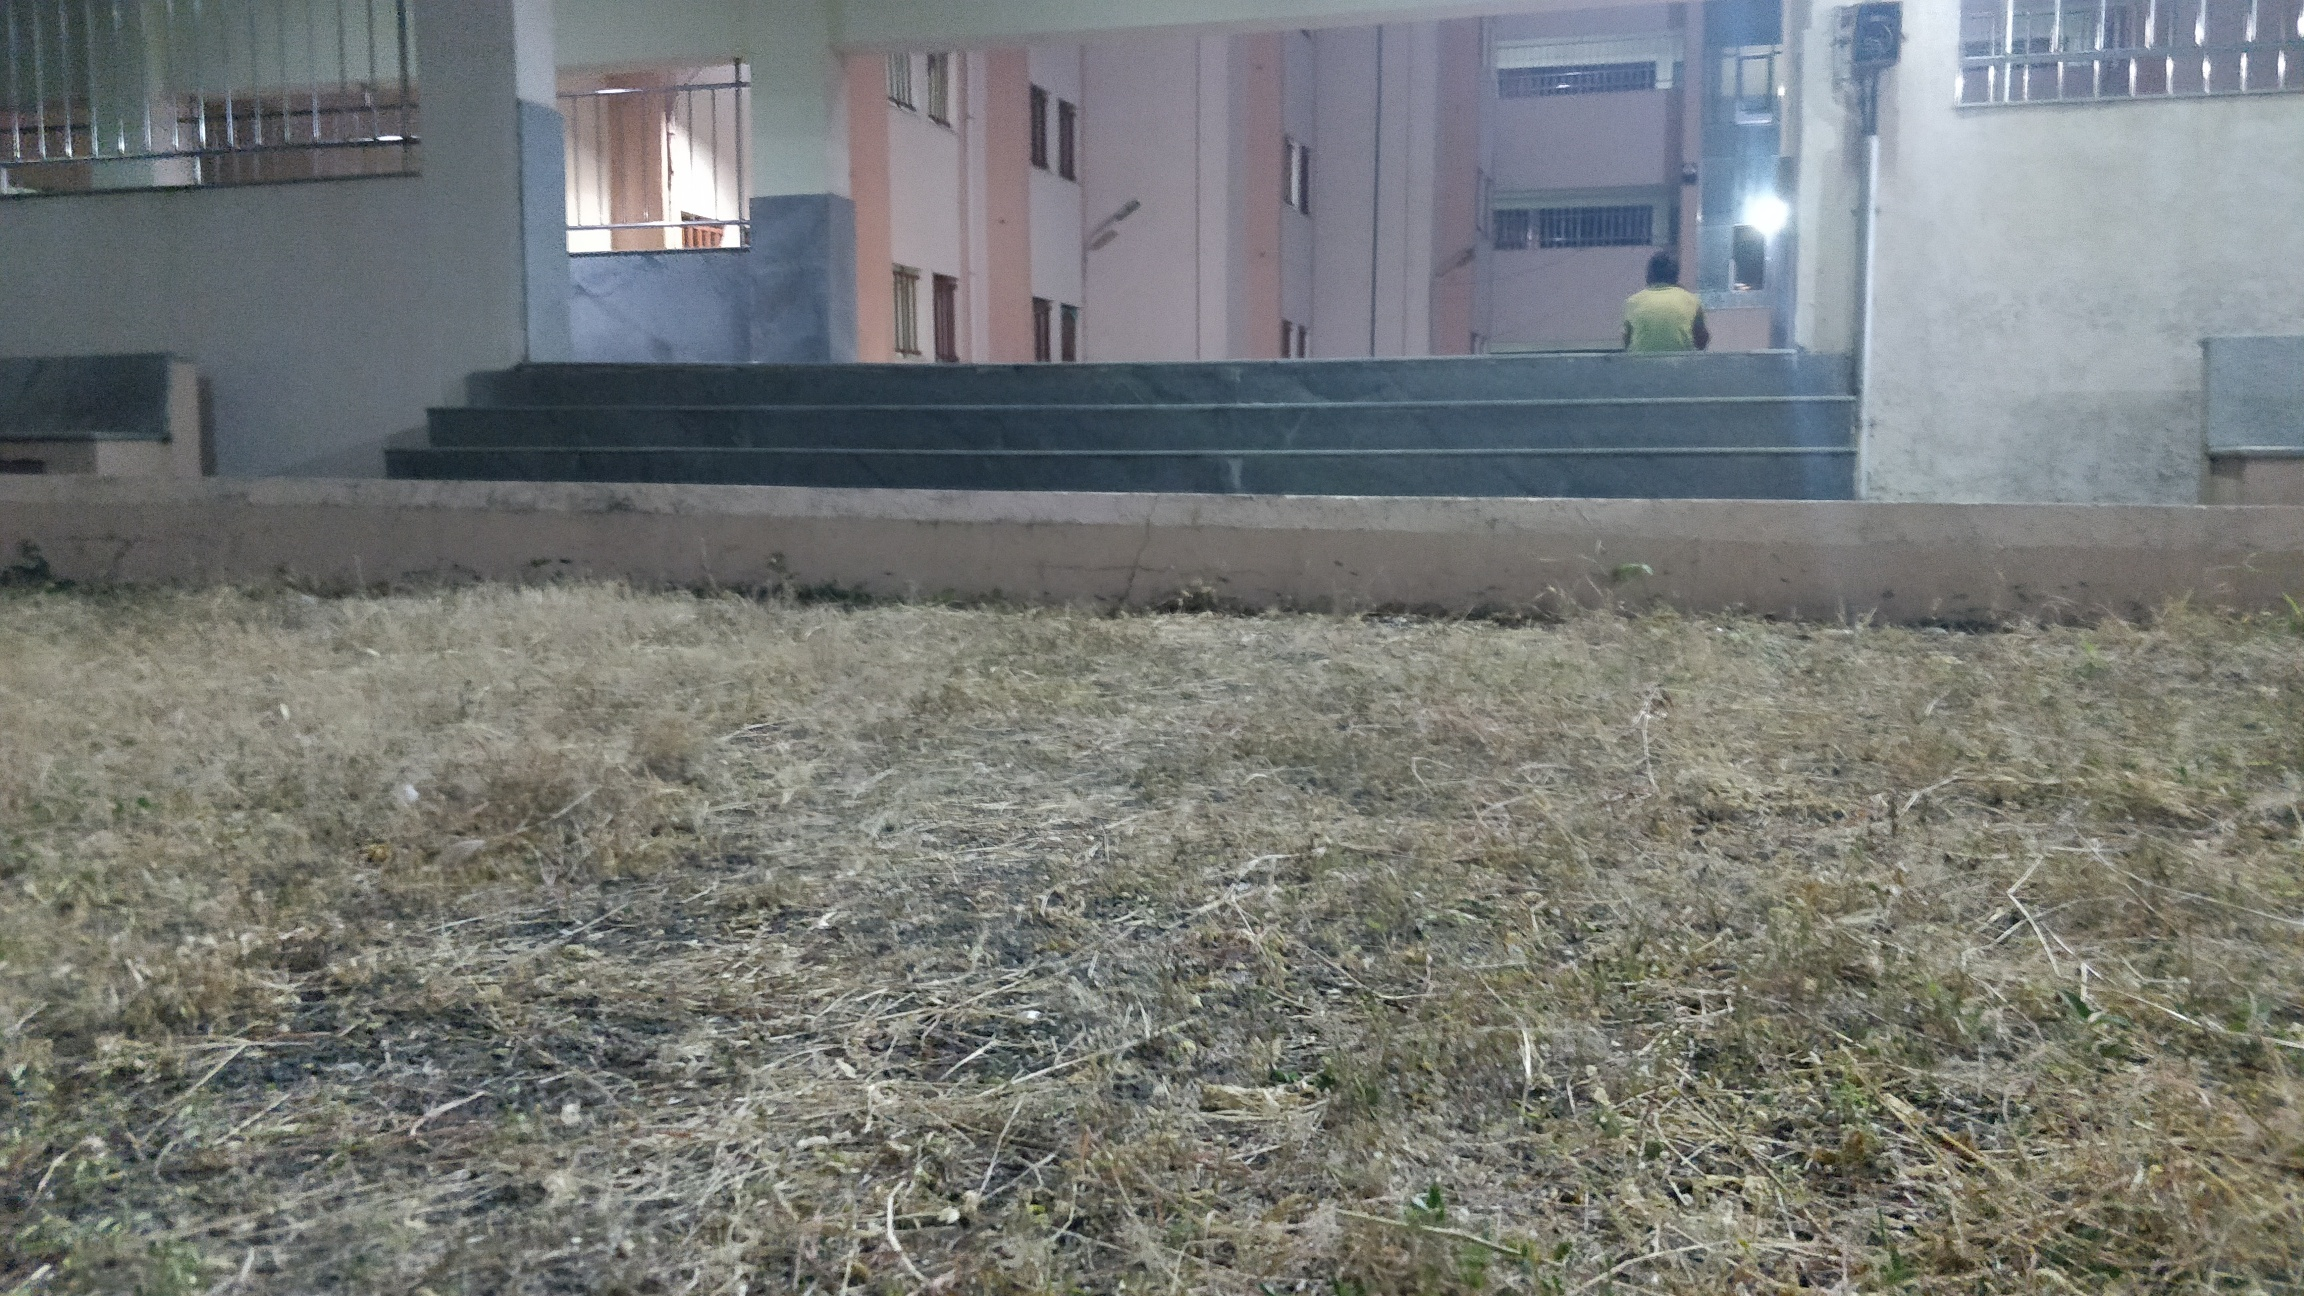stairs_up: (380, 350, 1874, 516)
